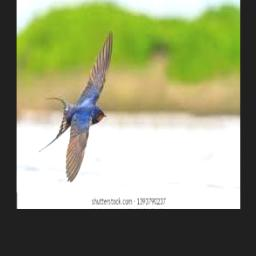Swallow: (38, 29, 113, 182)
